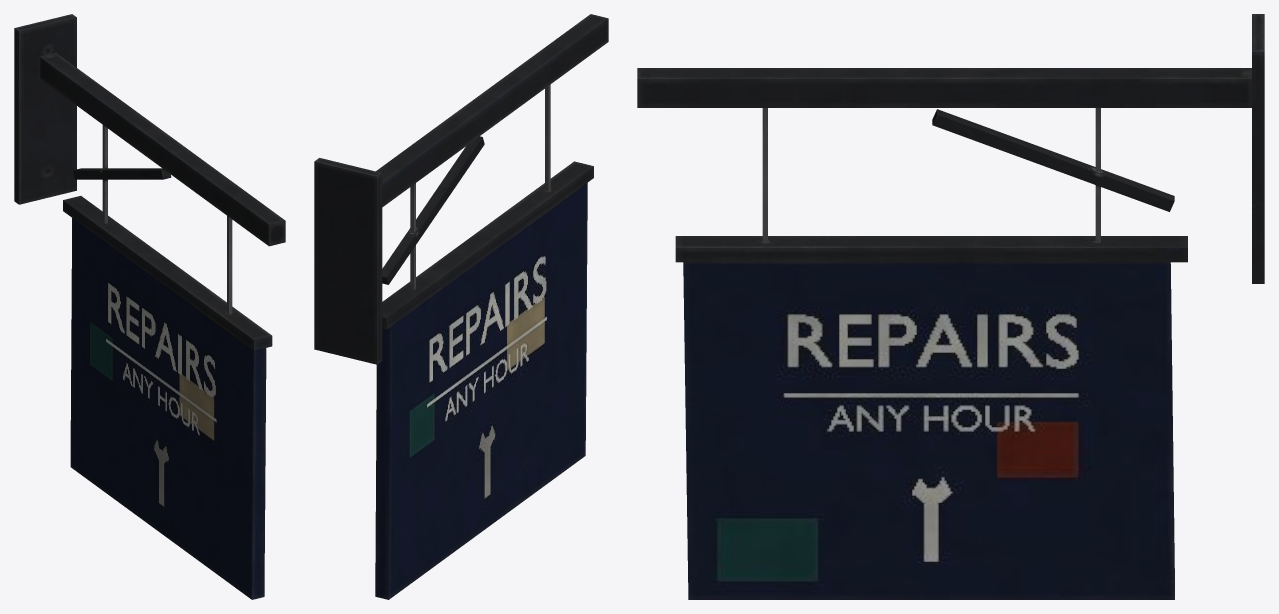
File: shop_sign_repairs.glb
3 views of the same model, side by side, from view 1: azimuth 30°, elevation 25°; view 2: azimuth 150°, elevation 25°; view 3: azimuth 270°, elevation 25° (orthographic). The views are drawn at different scales.
Parts seen in each view (by area): view 1: shop_sign_repairs; view 2: shop_sign_repairs; view 3: shop_sign_repairs.
Boxes of the visible parts, x1=… form: shop_sign_repairs: x1=14, y1=14, x2=285, y2=599; shop_sign_repairs: x1=314, y1=14, x2=608, y2=599; shop_sign_repairs: x1=637, y1=14, x2=1264, y2=599.
Size of the model in its own units: 0.14 by 0.97 by 0.98.
Materials: 1 (1 with a texture image).
